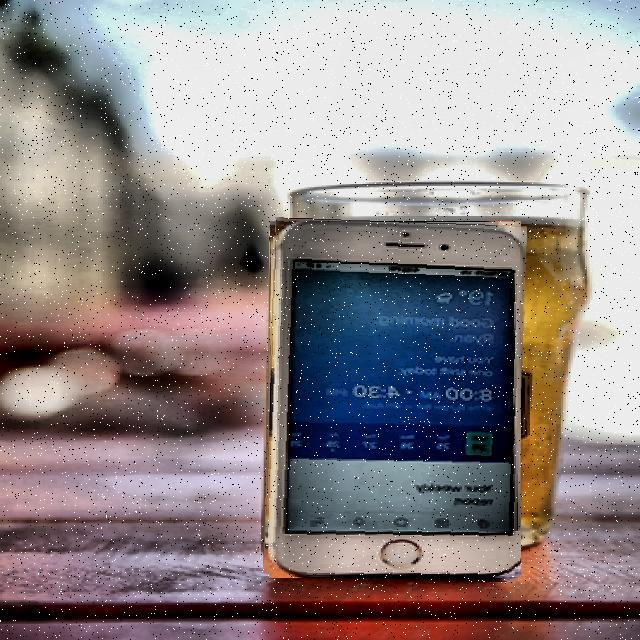Phone: (266, 219, 524, 580)
